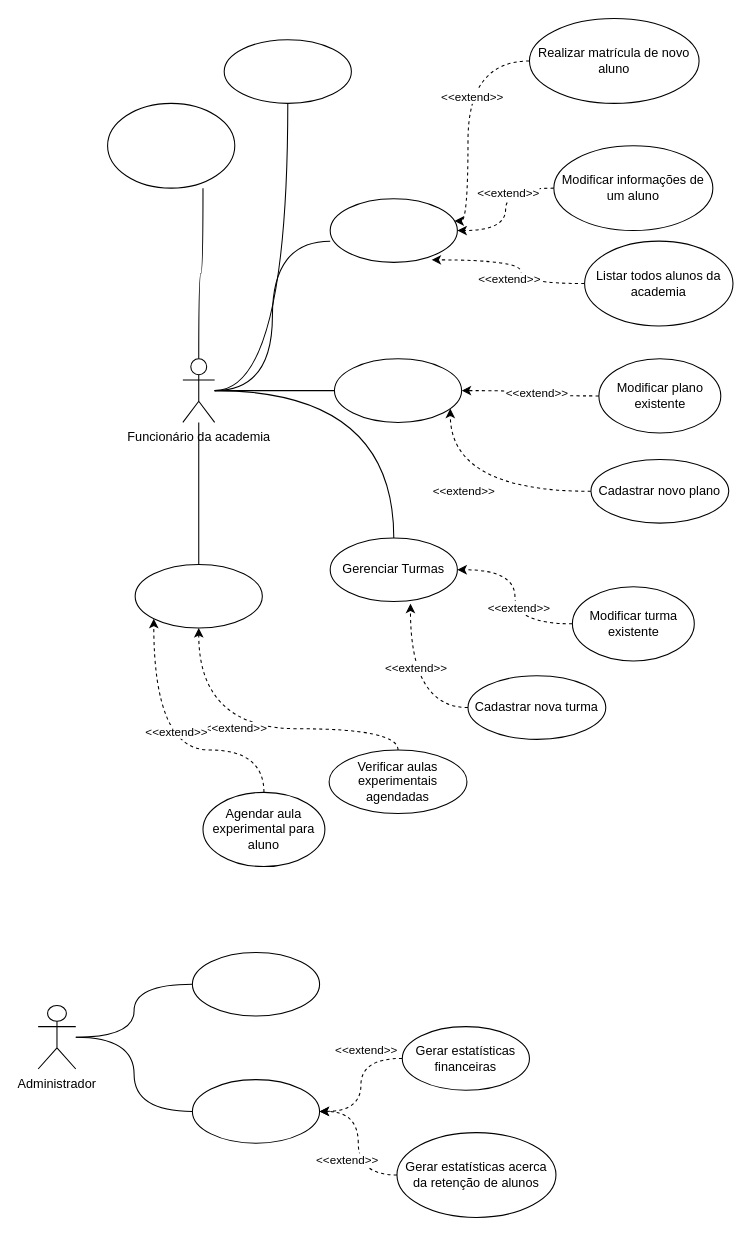
This 753x1236 diagram has some shape labels left out. Each missing label, with the centre of its shape:
Cadastrar novo funcionário: (255,983)
Gerar relatórios: (255,1111)
Gerenciar alunos: (393,230)
Gerenciar aulas experimentais: (198,595)
Gerenciar Planos: (397,390)
Realizar login: (171,145)
Realizar logoff: (287,71)
